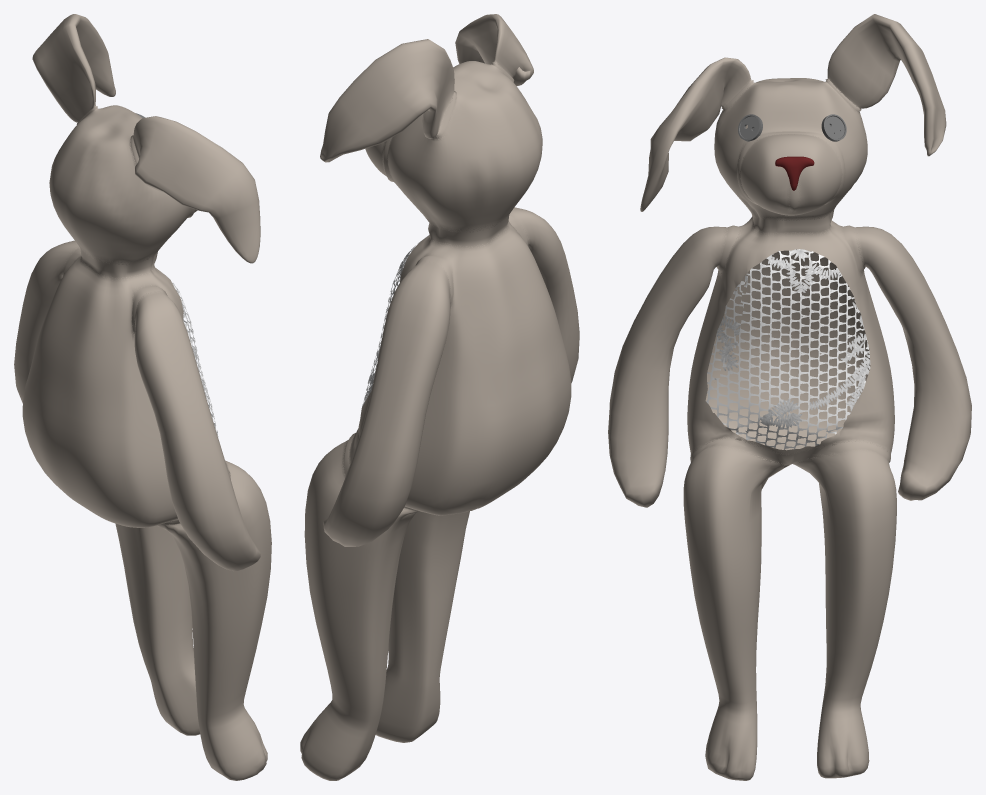
File: toy.fbx
The picture shows the model from 3 angles, left to right: view 1: azimuth 30°, elevation 25°; view 2: azimuth 150°, elevation 25°; view 3: azimuth 270°, elevation 25°; orthographic projection. The views are drawn at different scales.
Visible parts, largest first — view 1: Cube.002; view 2: Cube.002; view 3: Cube.002, Cylinder.001, Cube.003.
Boxes of the visible parts, box(x1,y1,x2,y2) form: Cube.002: box(14, 14, 271, 780); Cube.002: box(300, 14, 579, 780); Cube.002: box(608, 14, 971, 780); Cylinder.001: box(738, 114, 846, 141); Cube.003: box(775, 156, 814, 190).
Size of the model in its own units: 41.32 by 139 by 64.19.
4 materials, 1 textured.
